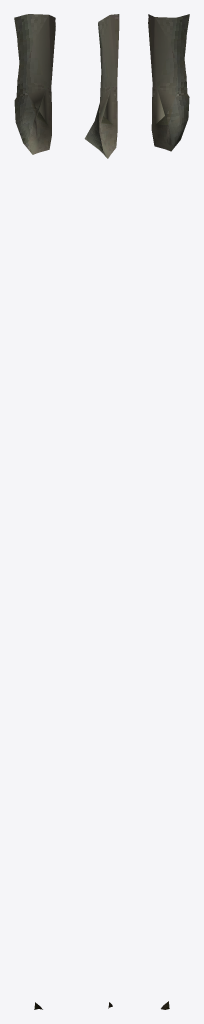
The picture shows the model from 3 angles, left to right: view 1: azimuth 90°, elevation 25°; view 2: azimuth 150°, elevation 25°; view 3: azimuth 270°, elevation 25°; orthographic projection.
Bounding box in the file's own units: 0.0732 × 3.04 × 0.1159.
Materials: 1 (1 with a texture image).
